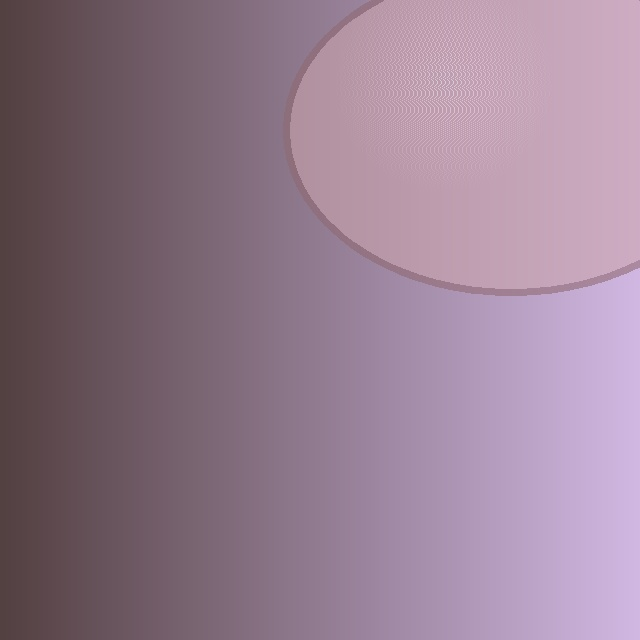lens: (286, 0, 640, 292)
